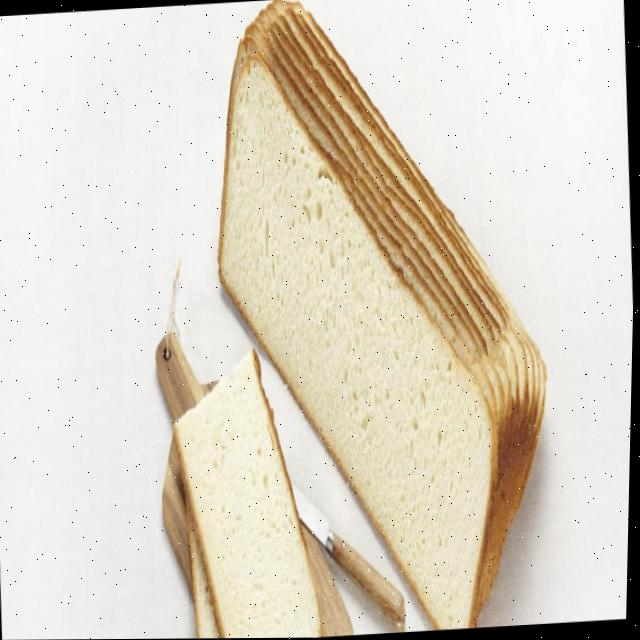Bread: (219, 0, 548, 628), (177, 350, 324, 639)
